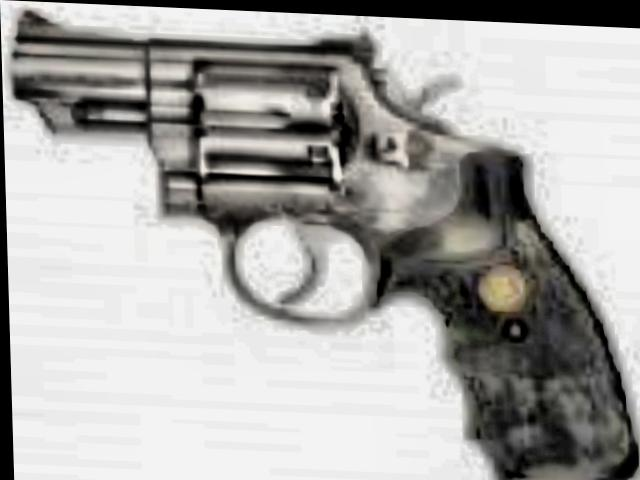pistol: (8, 0, 635, 480)
